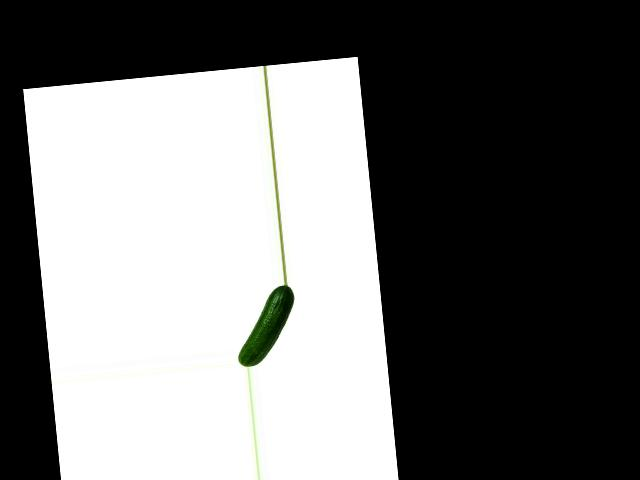cucumber: (232, 283, 301, 367)
